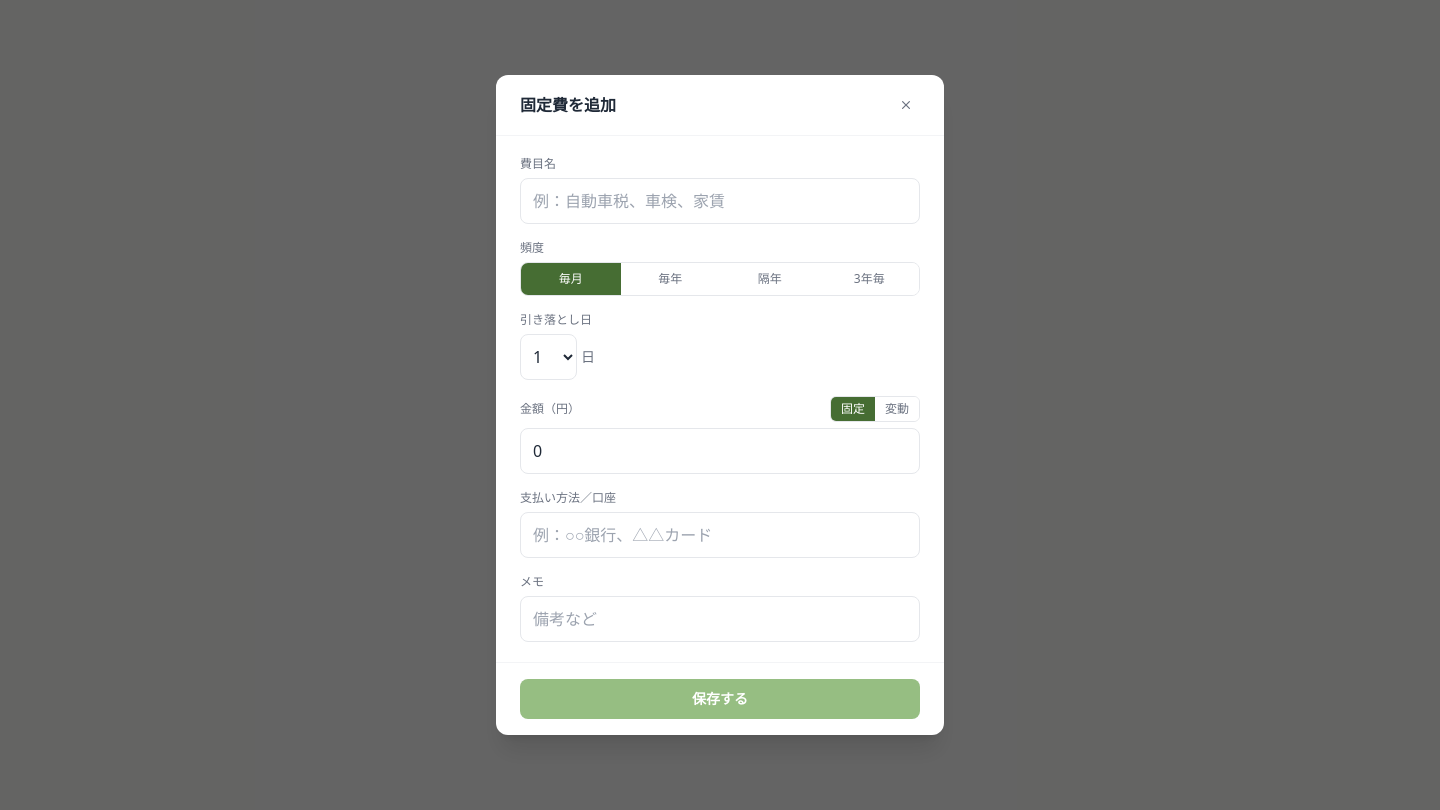
Test: FixedCostModal › 「毎年」を選択すると月フィールドが表示される
The width and height of the screenshot is (1440, 810).
Click the button "毎年". click: click(670, 279)
box: [620,263,720,295]
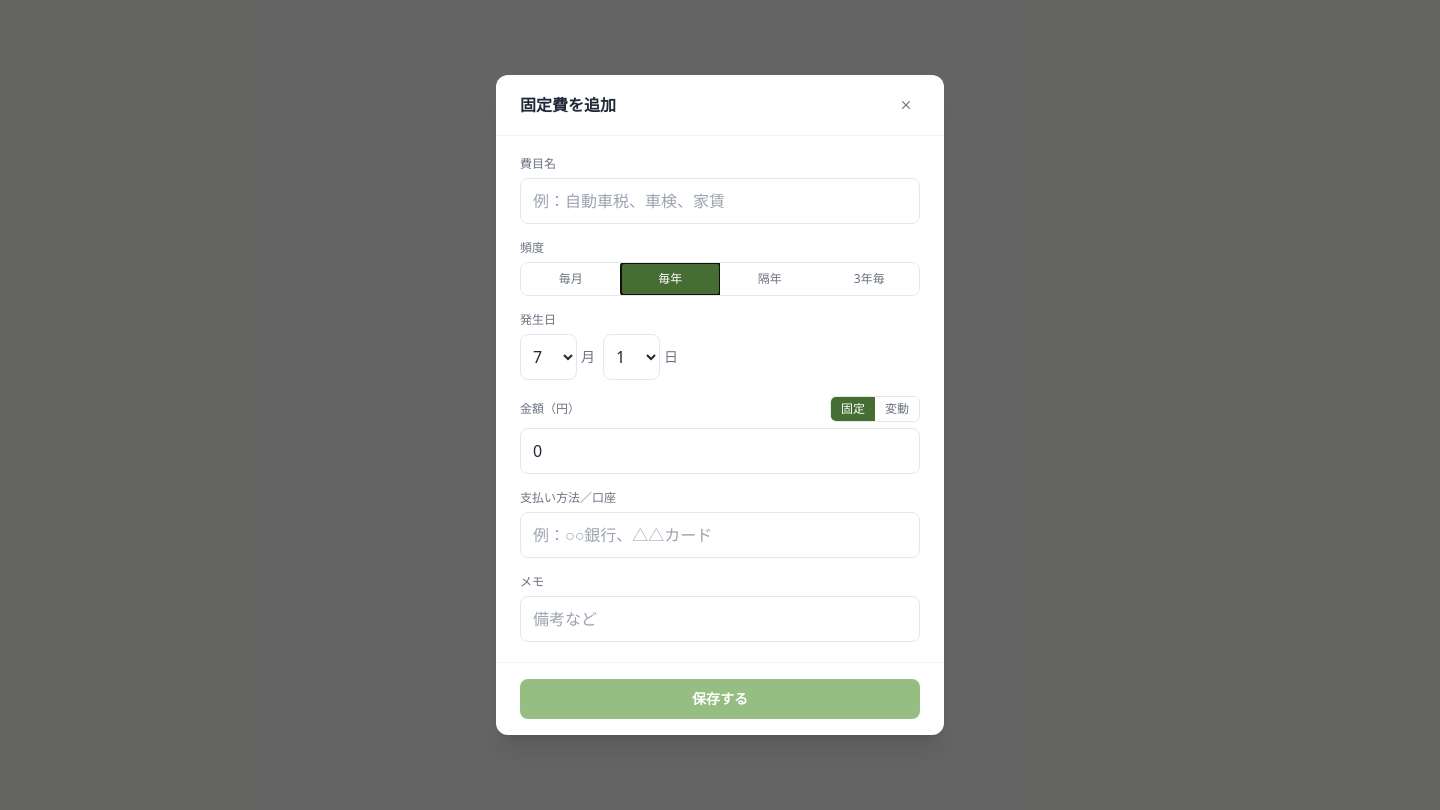
expect the dropdown named "発生月" is shown: met, box [520,334,577,380]
expect the dropdown named "発生日" is shown: met, box [603,334,660,380]
